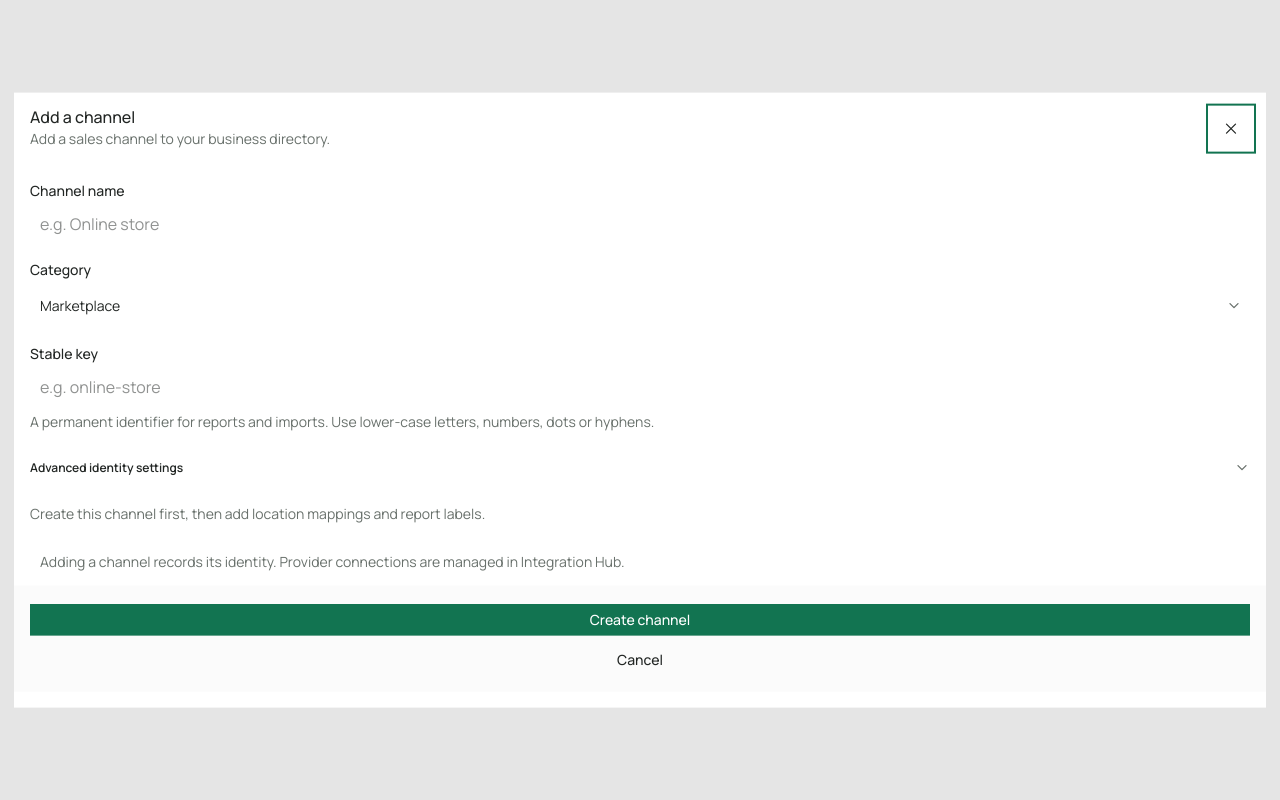
Test case: create mode (D04) › shows the Zod key message and sends nothing when the key is invalid
The image size is (1280, 800).
Step 1. Type "Online store" into the field labelled "Channel name" → (640, 224), box [30,208,1250,240]
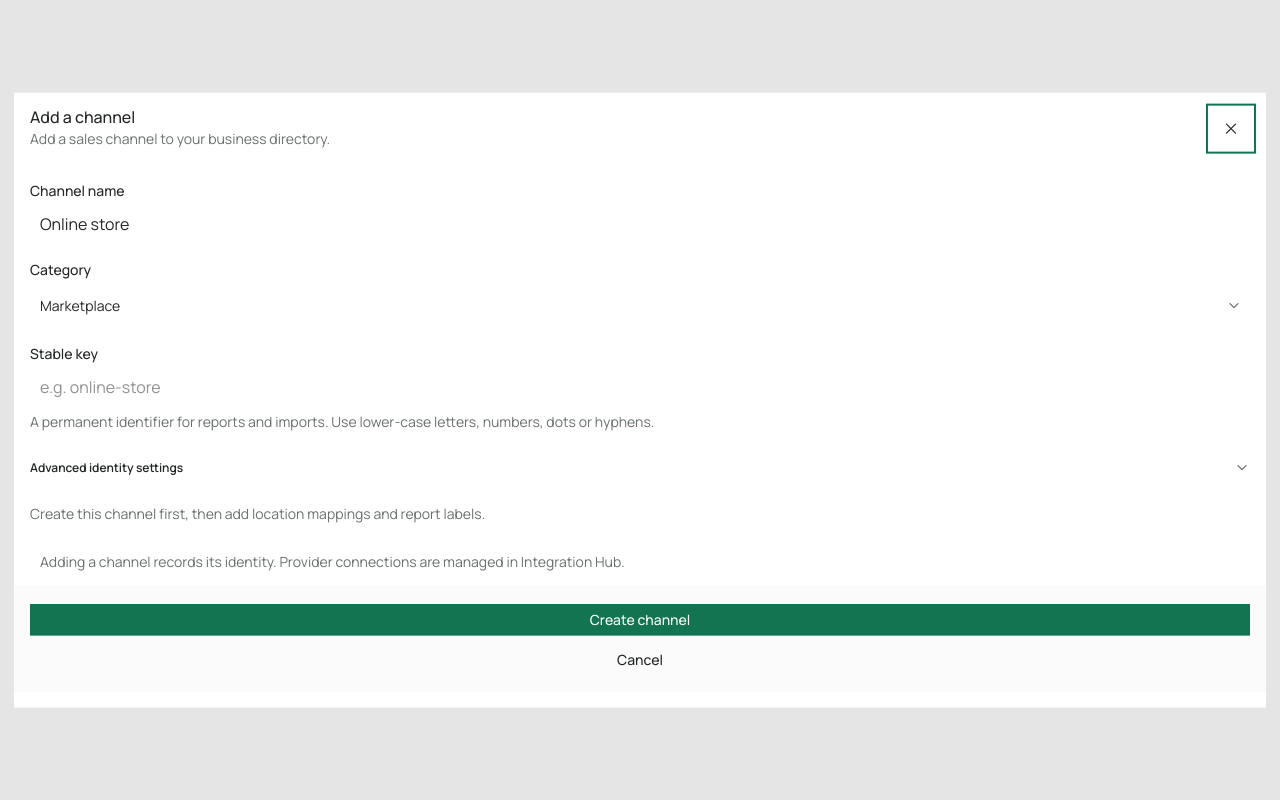
Step 2. Type "1 bad key!" into the field labelled "Stable key" → (640, 386), box [30,370,1250,402]
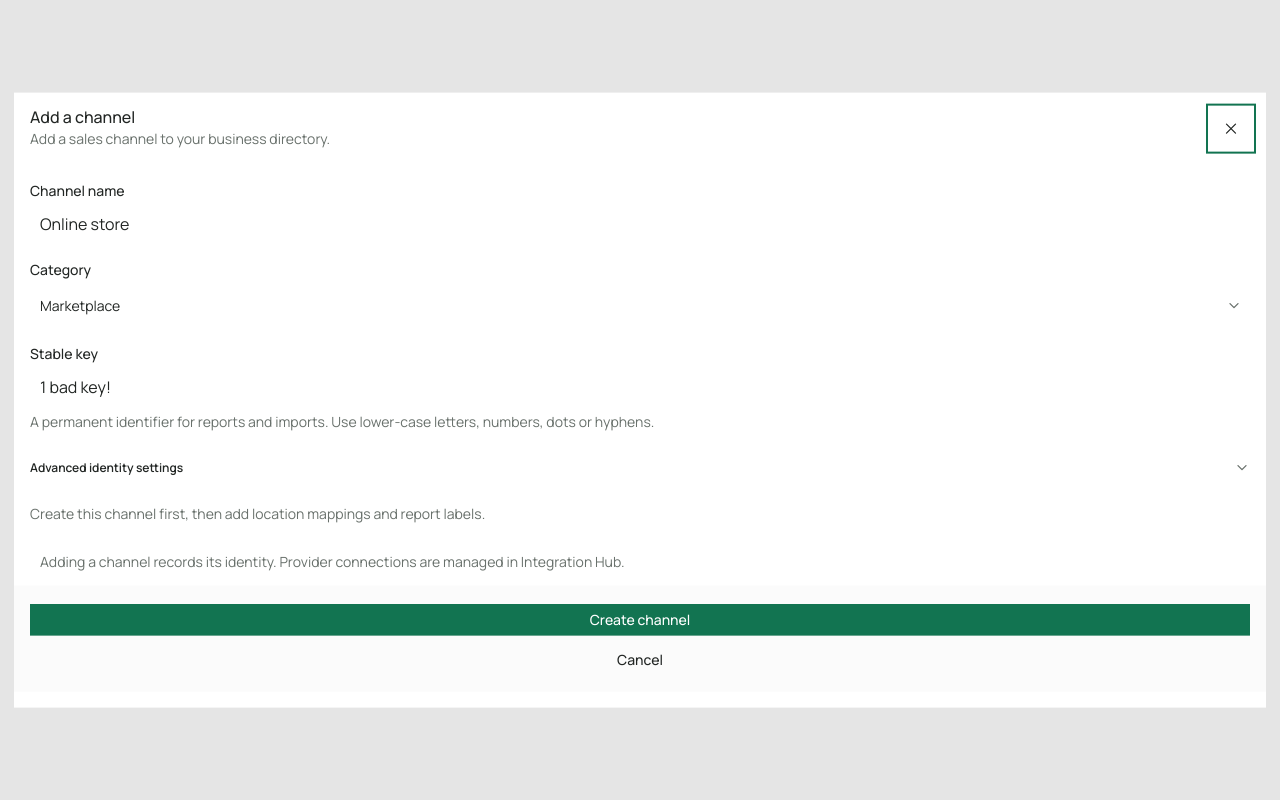
Step 3. Click the button "Create channel" → click(640, 619), box [30,603,1250,635]
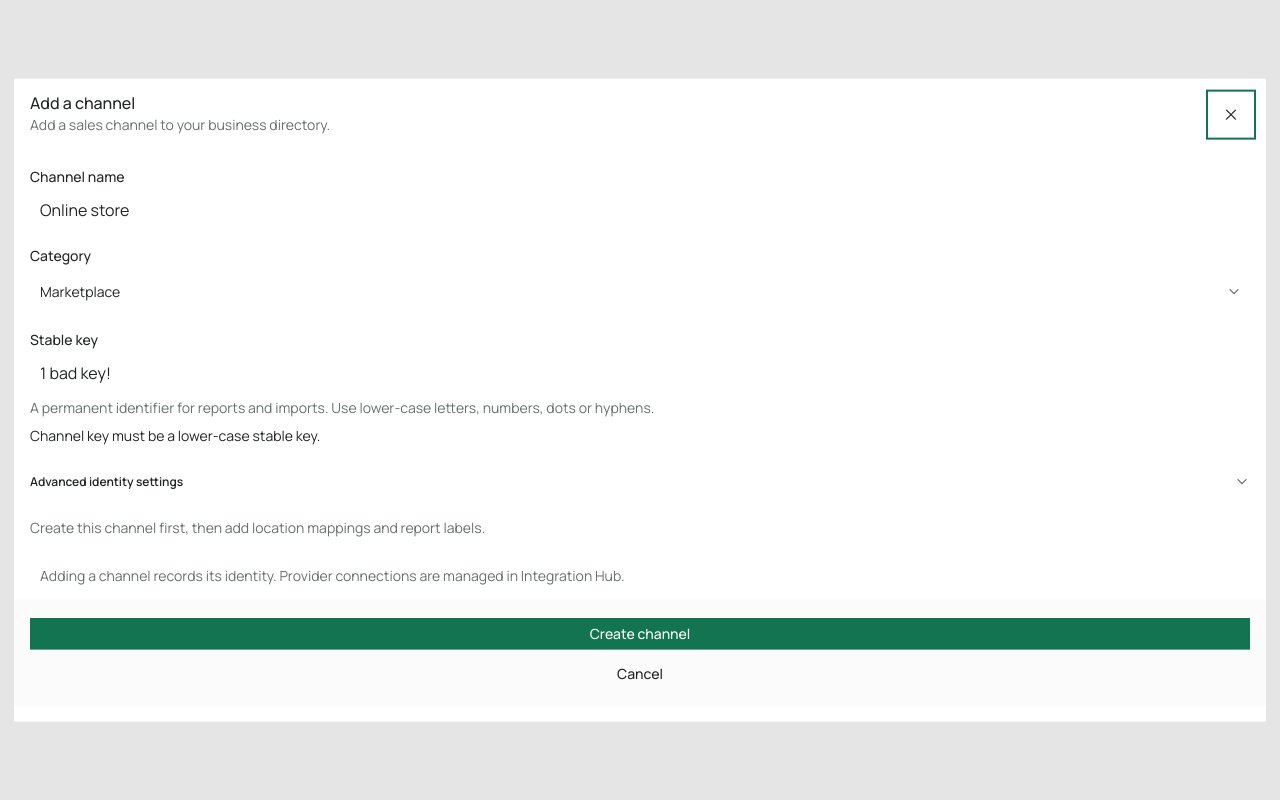
Expected: the text "Channel key must be a lower-case stable key." is shown, [30,425,320,444]
